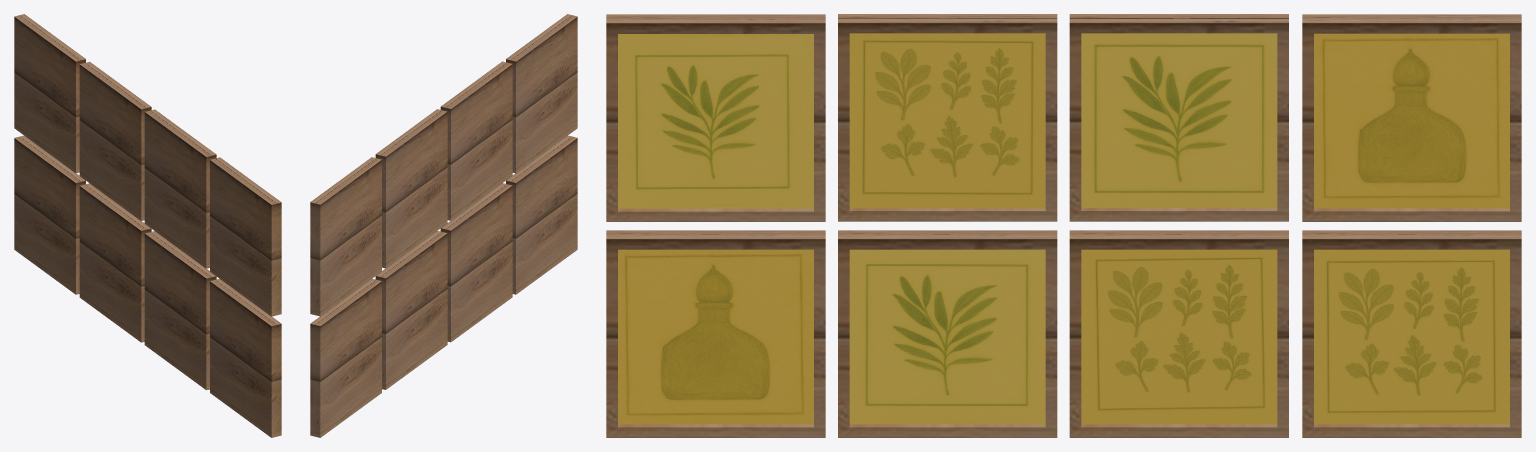
The model's file is cuadros.fbx.
3 views of the same model, side by side, from view 1: azimuth 30°, elevation 25°; view 2: azimuth 150°, elevation 25°; view 3: azimuth 270°, elevation 25° (orthographic). The views are drawn at different scales.
Parts seen in each view (by area): view 1: Cube.004, Cube, Cube.005, Cube.006, Cube.007, Cube.001, Cube.002, Cube.003; view 2: Cube.007, Cube.003, Cube.006, Cube.005, Cube.004, Cube.001, Cube.002, Cube; view 3: Cube, Cube.001, Cube.002, Cube.003, Cube.004, Cube.005, Cube.006, Cube.007.
Part boxes in pixels (x1,y1,x2,y2): Cube.004: [210, 157, 281, 316]; Cube: [210, 278, 281, 437]; Cube.005: [144, 109, 216, 268]; Cube.006: [79, 61, 151, 220]; Cube.007: [14, 14, 85, 173]; Cube.001: [144, 231, 216, 390]; Cube.002: [79, 183, 151, 342]; Cube.003: [14, 135, 85, 294]; Cube.007: [310, 157, 381, 316]; Cube.003: [310, 278, 381, 437]; Cube.006: [375, 109, 447, 268]; Cube.005: [440, 61, 512, 220]; Cube.004: [506, 14, 577, 173]; Cube.001: [440, 183, 512, 342]; Cube.002: [375, 231, 447, 389]; Cube: [506, 135, 577, 294]; Cube: [606, 230, 825, 437]; Cube.001: [838, 230, 1057, 437]; Cube.002: [1069, 230, 1288, 437]; Cube.003: [1302, 230, 1521, 437]; Cube.004: [606, 14, 825, 221]; Cube.005: [838, 14, 1057, 221]; Cube.006: [1069, 14, 1288, 221]; Cube.007: [1302, 14, 1521, 221].
Size of the model in its own units: 60.9 by 1333 by 2664.
